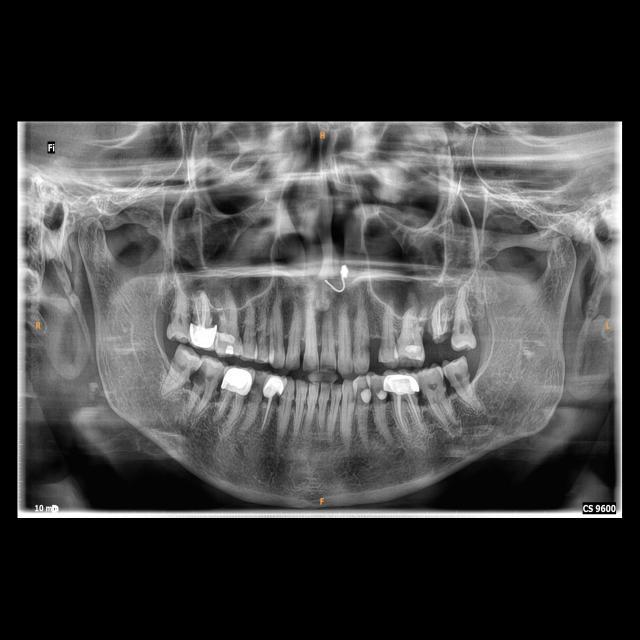dentin-curugu: (191, 360, 210, 389), (184, 364, 199, 383)
dolgu: (219, 342, 239, 356), (360, 387, 372, 405), (376, 388, 388, 402)
kanal-tedavisi: (393, 396, 422, 431), (192, 292, 211, 325), (428, 304, 448, 334), (261, 398, 274, 431)
kaplama: (384, 372, 420, 397), (225, 366, 253, 398), (185, 322, 218, 349), (263, 374, 285, 399)
